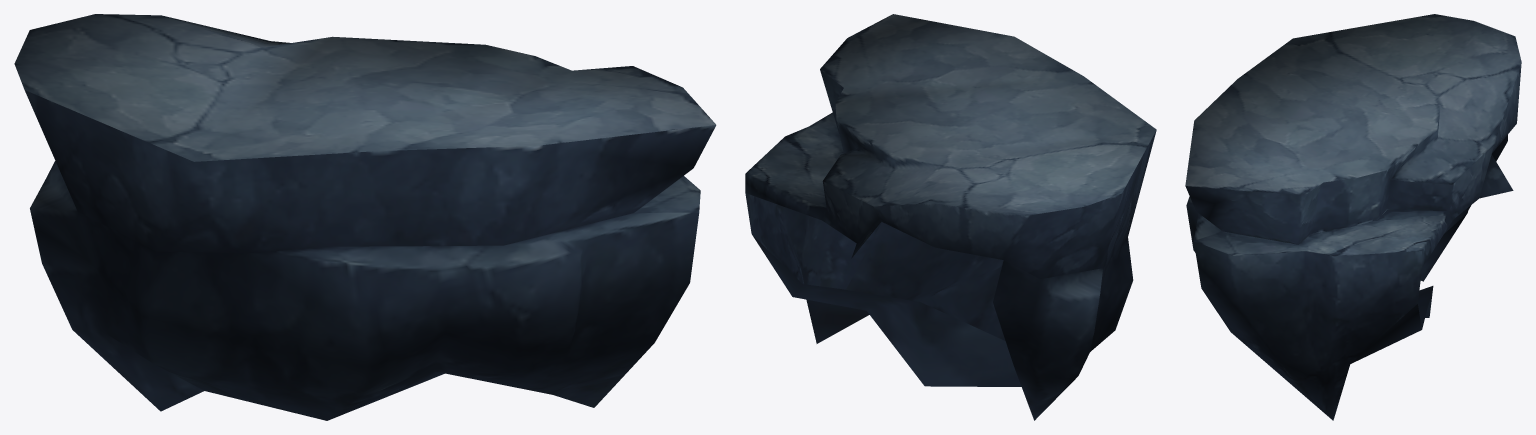
The model's file is Area_02_12.fbx.
3 views of the same model, side by side, from view 1: azimuth 30°, elevation 25°; view 2: azimuth 150°, elevation 25°; view 3: azimuth 270°, elevation 25° (orthographic). The views are drawn at different scales.
Parts seen in each view (by area): view 1: Area_02_12; view 2: Area_02_12; view 3: Area_02_12.
Boxes of the visible parts, <box> form: Area_02_12: <box>14,14,716,420</box>; Area_02_12: <box>745,14,1156,420</box>; Area_02_12: <box>1185,14,1521,420</box>.
Size of the model in its own units: 5188 by 3490 by 4259.
